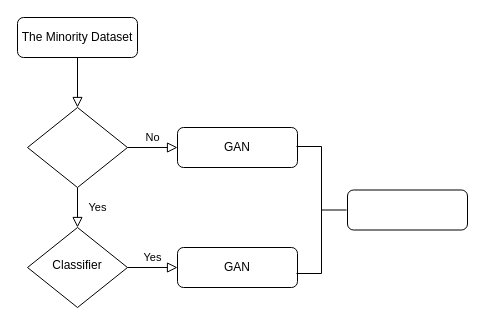
Image size: 485x325. Some labels were removed from this diagram. Each missing label, with the centre of its shape:
"Categorical variable?" goes at point (77, 147).
"Final GAN-data" goes at point (407, 209).
